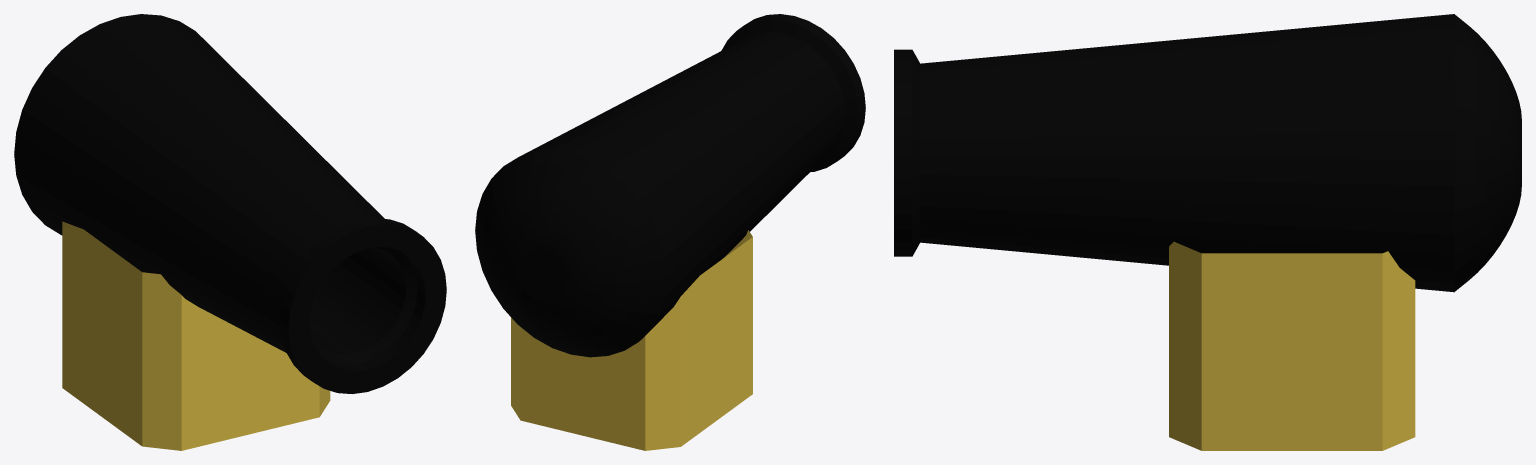
The model's file is can22.fbx.
3 views of the same model, side by side, from view 1: azimuth 30°, elevation 25°; view 2: azimuth 150°, elevation 25°; view 3: azimuth 270°, elevation 25° (orthographic). The views are drawn at different scales.
Visible parts, largest first — view 1: Cylinder; view 2: Cylinder; view 3: Cylinder.
Part boxes in pixels (<box>): Cylinder: <box>14,14,446,450</box>; Cylinder: <box>475,14,865,450</box>; Cylinder: <box>894,14,1521,450</box>.
Bounding box in the file's own units: 67.83 × 99.33 × 153.
